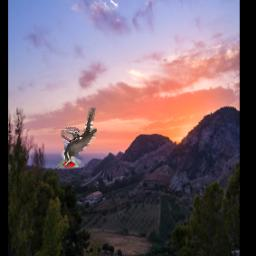Woodpecker: (55, 109, 97, 169)
